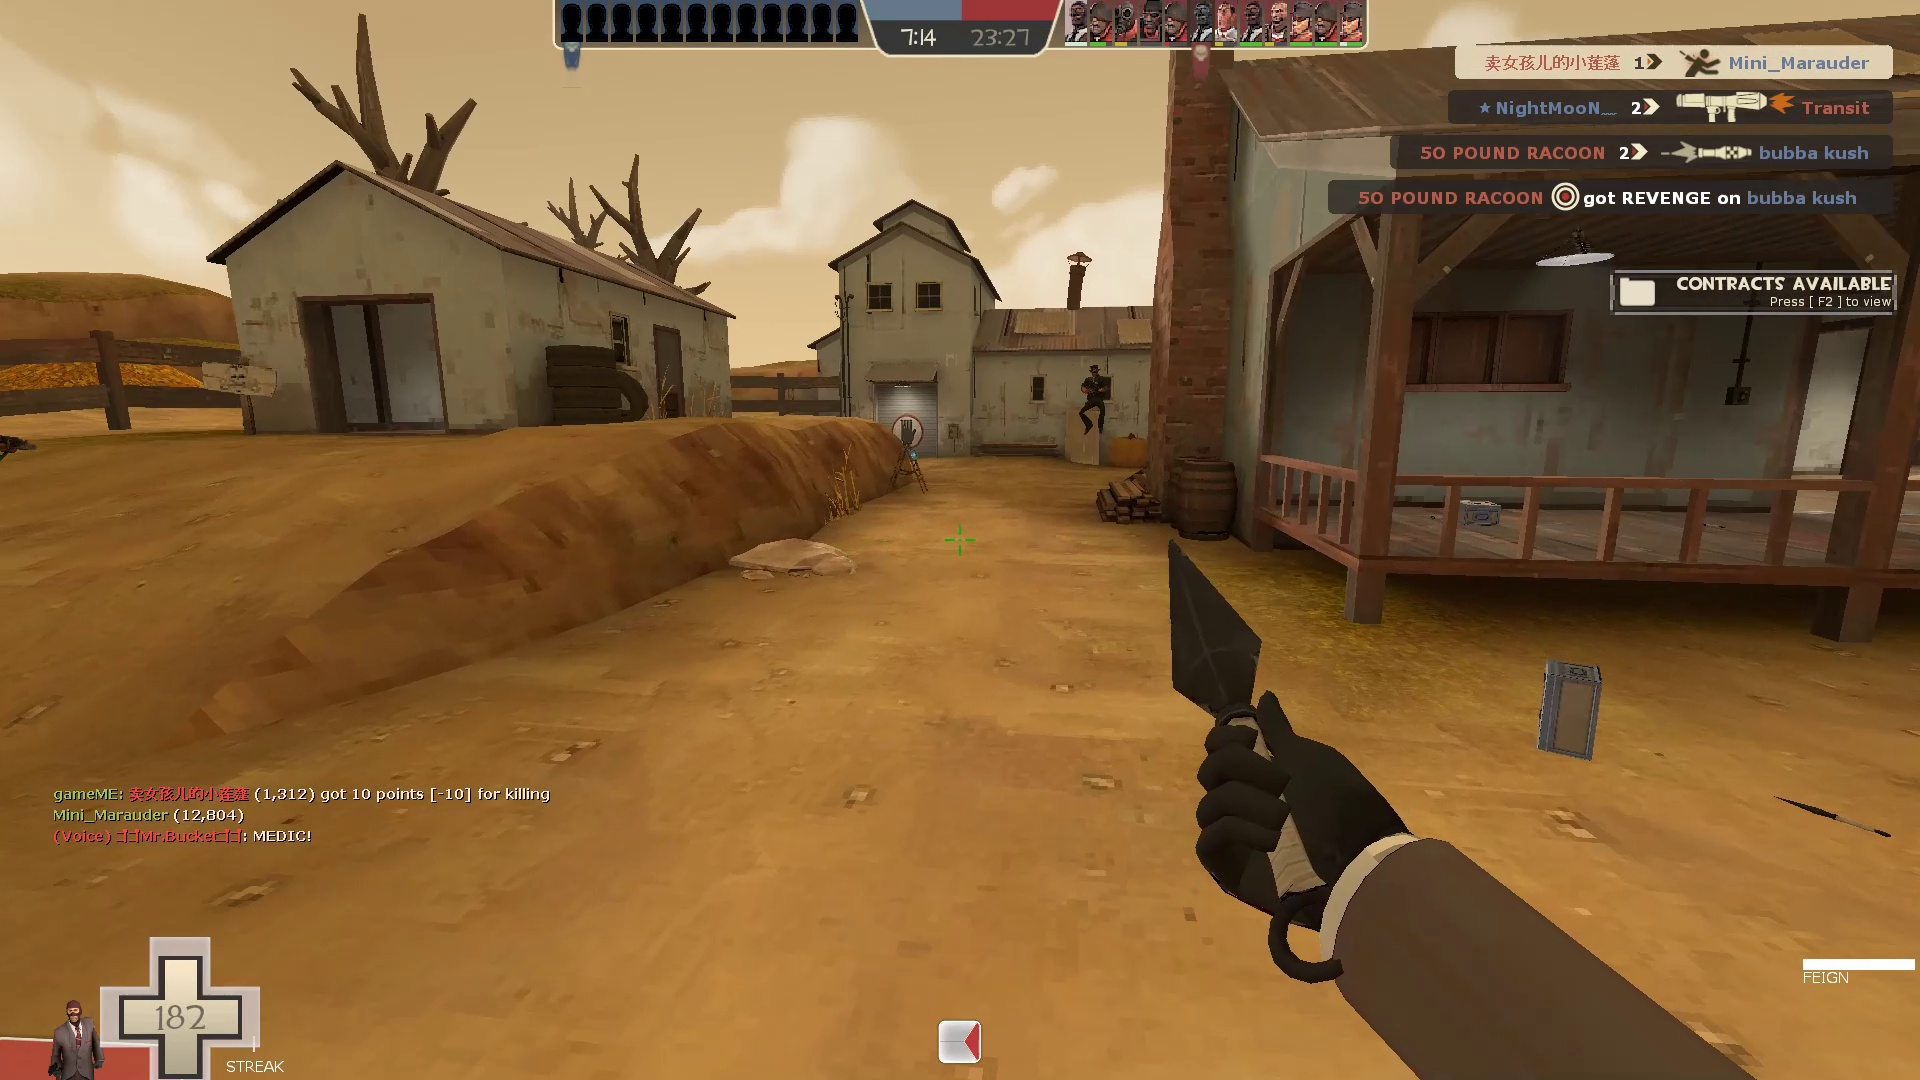blu_sniper: (1073, 357, 1117, 444)
